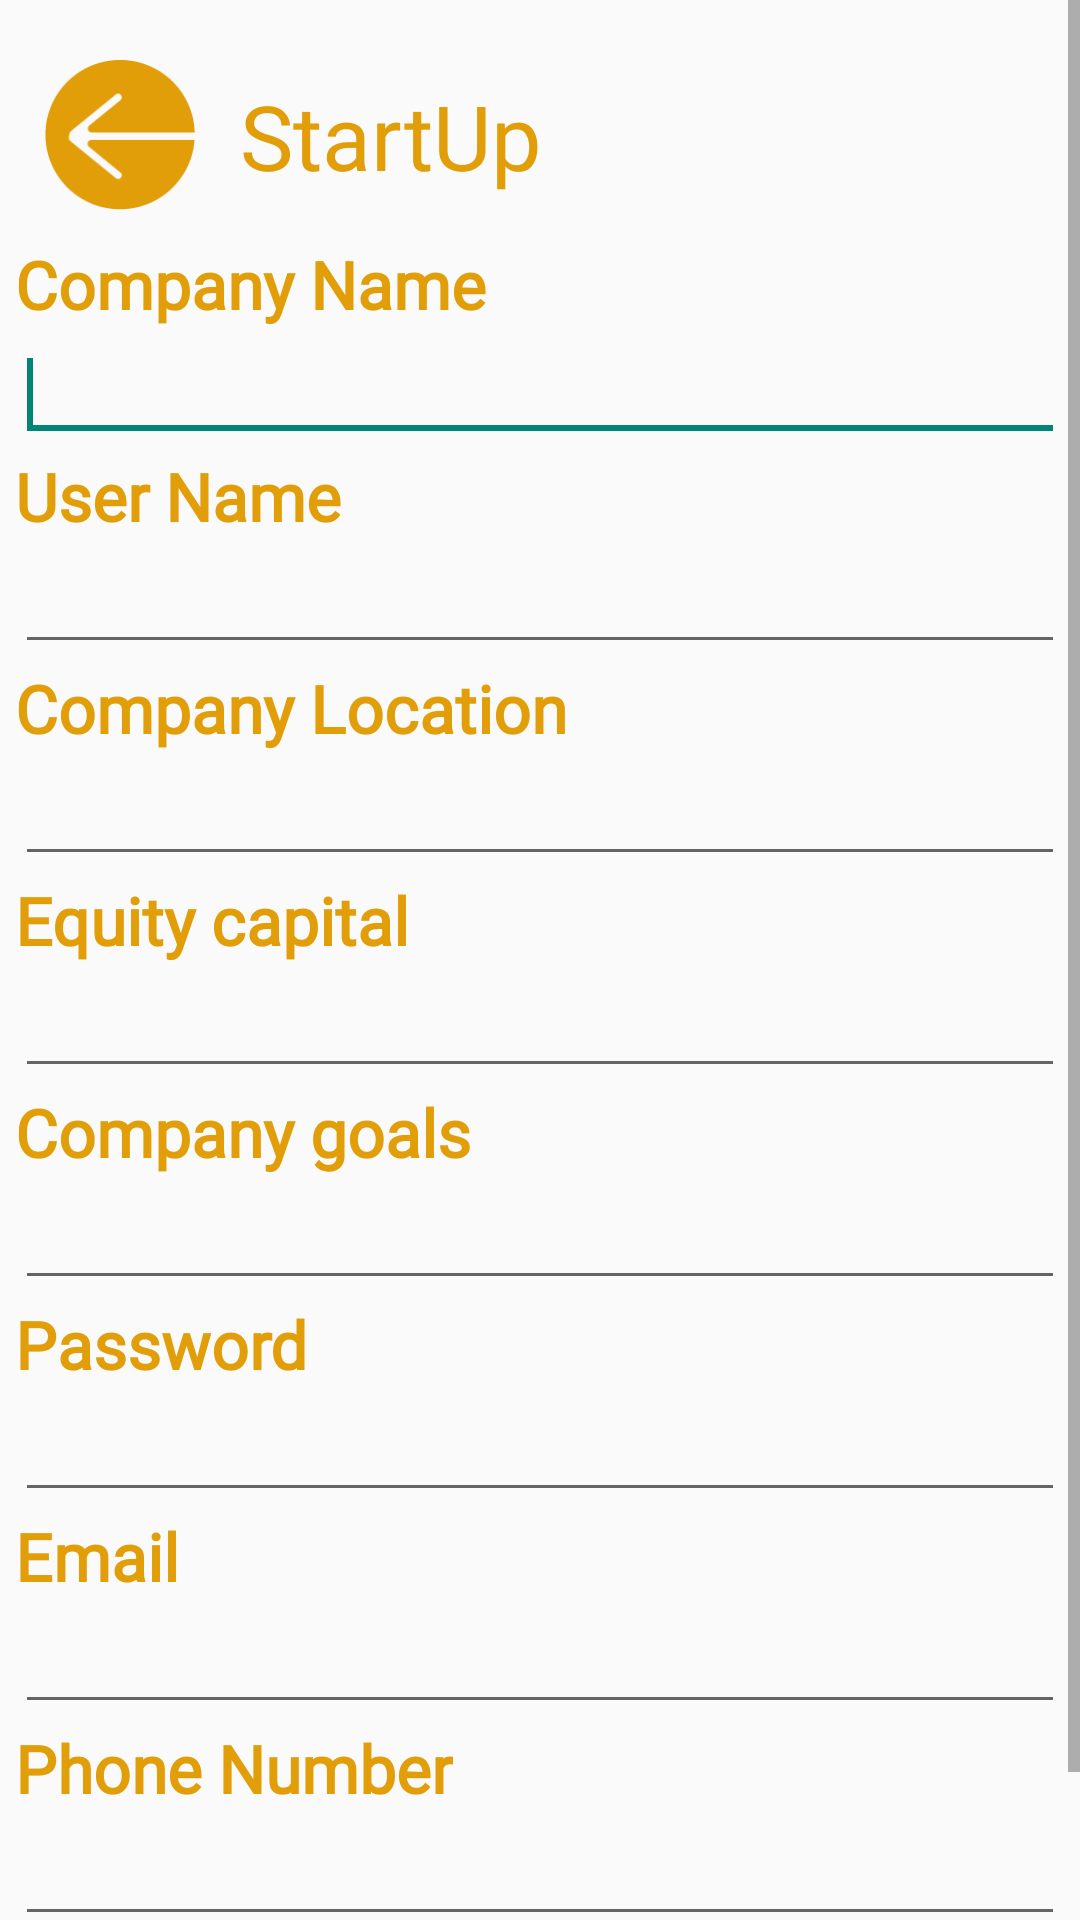

Icon bounding boxes for this 1080w x 1920h phone screenshot, format (x1, y1, x2, y2):
back: (45, 60, 195, 210)
